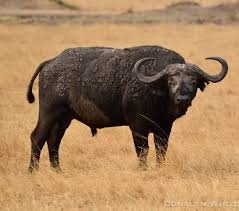buffalo: (24, 43, 230, 176)
